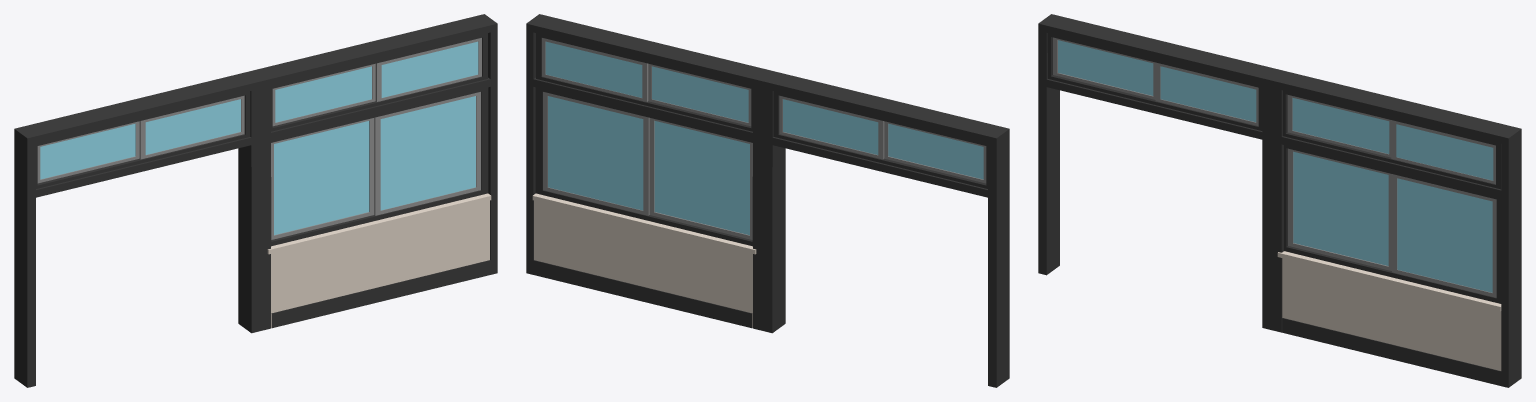
Rendered from SCH0110026.fbx.
3 renders of one model, left to right at view 1: azimuth 30°, elevation 25°; view 2: azimuth 150°, elevation 25°; view 3: azimuth 330°, elevation 25°, orthographic.
Parts seen in each view (by area): view 1: smSCH0110026; view 2: smSCH0110026; view 3: smSCH0110026.
Part boxes in pixels (box(x1,y1,x2,y2)): smSCH0110026: box(14, 14, 497, 387); smSCH0110026: box(526, 14, 1009, 387); smSCH0110026: box(1038, 14, 1521, 387).
Size of the model in its own units: 645 by 327 by 35.38.
1 material, 1 textured.
